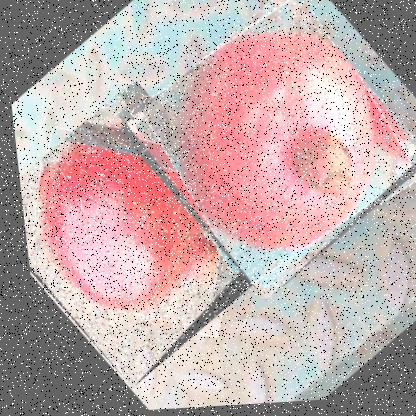pomegranate: (101, 0, 415, 309), (7, 72, 293, 393)
